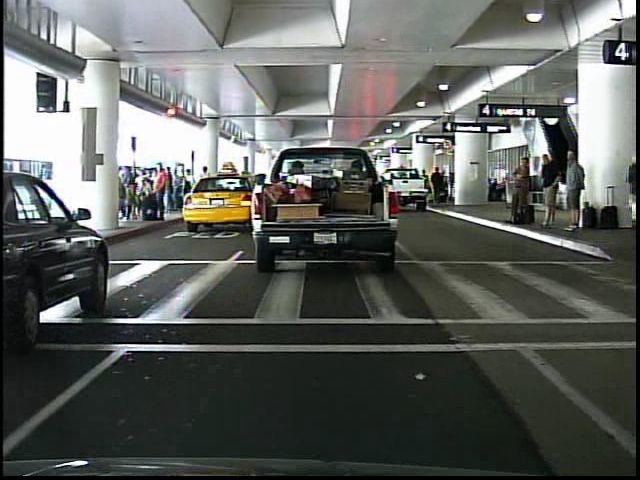person: (633, 149, 640, 234)
